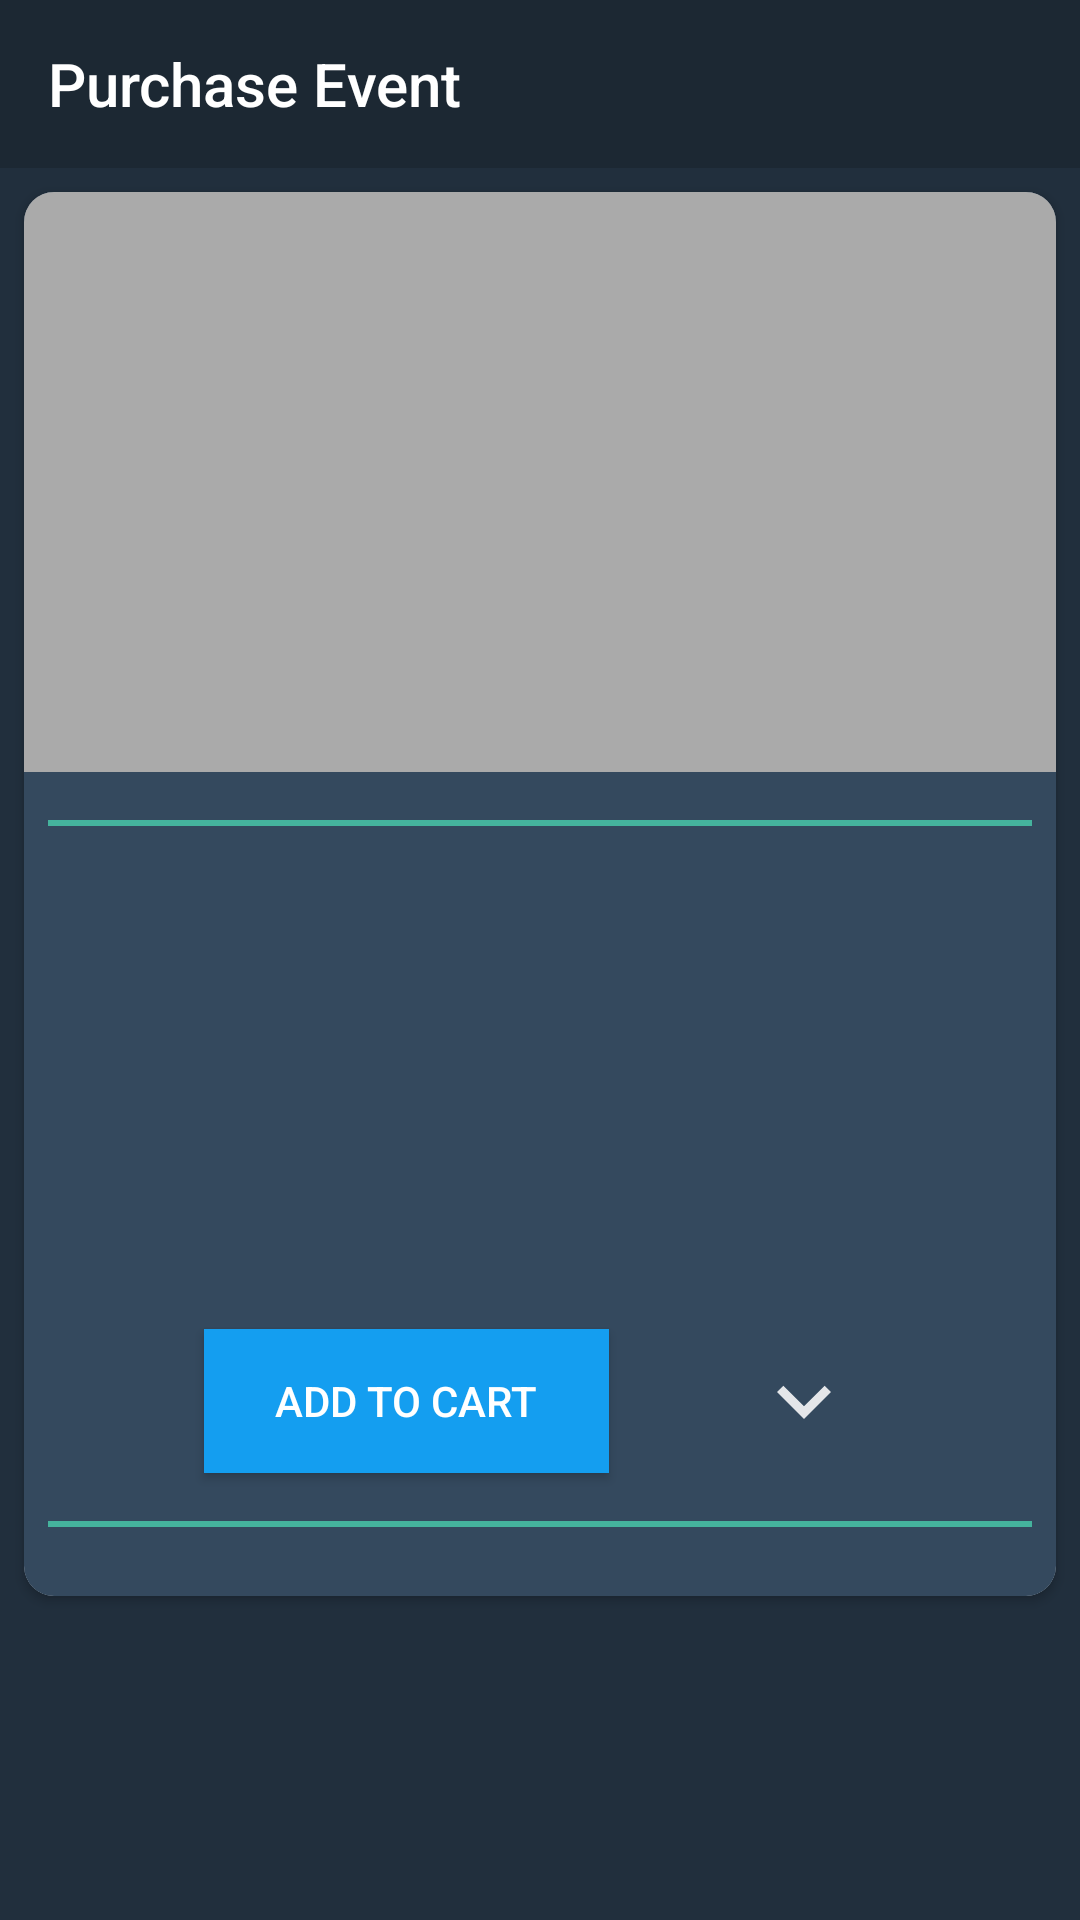

Screen size 1080 × 1920. Icon name, then its center in pixels as [x,y]:
arrow drop down: [804,1402]
